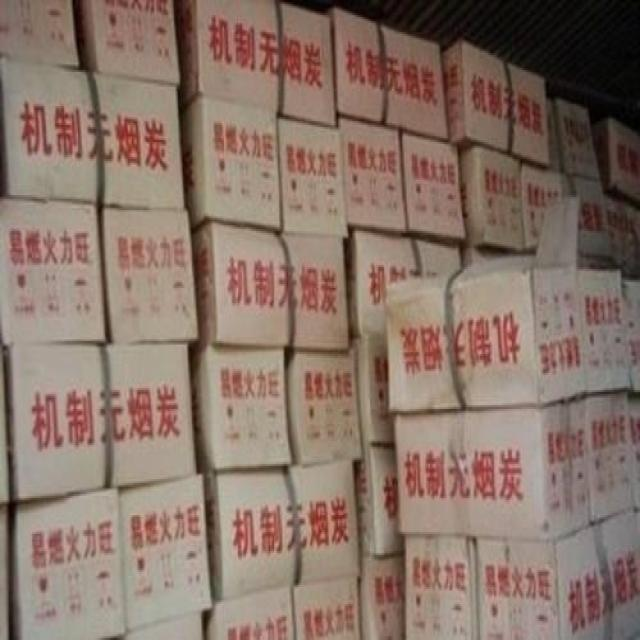box: (0, 471, 213, 638), (0, 342, 198, 504), (1, 193, 200, 345), (404, 509, 639, 636), (386, 266, 588, 409), (395, 396, 592, 540), (0, 56, 186, 207), (180, 92, 349, 237), (189, 343, 364, 467), (206, 461, 361, 596), (193, 221, 349, 351), (177, 2, 338, 125), (338, 115, 465, 244), (327, 8, 449, 139), (442, 38, 550, 166), (342, 227, 463, 332), (460, 141, 566, 255), (201, 580, 362, 638), (74, 2, 178, 86), (577, 269, 629, 390), (587, 389, 632, 522), (355, 444, 405, 555), (347, 330, 395, 445), (0, 1, 78, 64), (547, 98, 601, 178), (563, 171, 612, 257), (595, 119, 639, 206), (360, 555, 405, 637), (462, 243, 570, 271), (607, 190, 639, 275), (114, 612, 204, 638), (622, 278, 639, 394), (630, 384, 639, 508), (569, 251, 611, 268), (613, 256, 639, 278)
